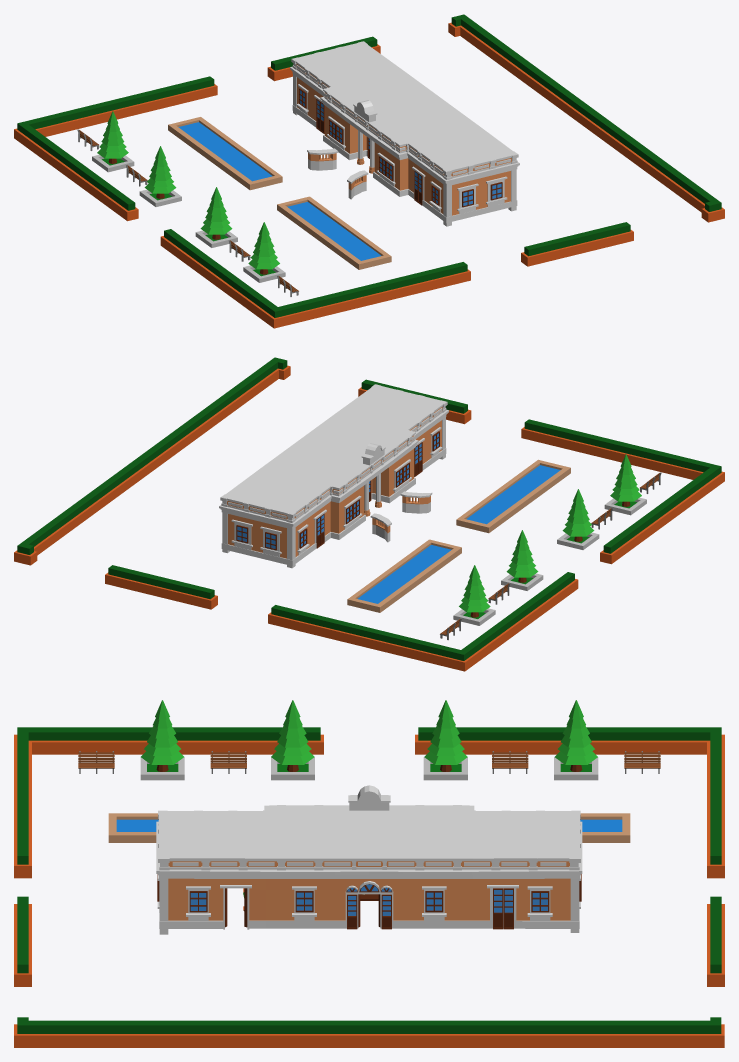
The model's file is Cajica-Station-Model.glb.
The picture shows the model from 3 angles, top to bottom: view 1: azimuth 30°, elevation 25°; view 2: azimuth 150°, elevation 25°; view 3: azimuth 270°, elevation 25°; orthographic projection. The views are drawn at different scales.
Visible parts, largest first — view 1: Cube.274, Cube.255, Cube.081, Cube.090, Cube.272, Plane.002, Cube.072; view 2: Cube.274, Cube.255, Cube.081, Cube.090, Cube.272, Plane.002, Cube.072; view 3: Cube.274, Cube.081, Cube.255, Cube.272, Cube.090, Plane.002, Cube.078, Cube.069, Cube.045, Cube.047, Cube.054, Cylinder.020 (+10 smaller).
Boxes of the visible parts, left/top/right/bottom form: Cube.274: left=290, top=41, right=519, bottom=222; Cube.255: left=14, top=76, right=470, bottom=328; Cube.081: left=448, top=14, right=724, bottom=222; Cube.090: left=168, top=117, right=391, bottom=269; Cube.272: left=267, top=36, right=633, bottom=266; Plane.002: left=178, top=122, right=381, bottom=260; Cube.072: left=307, top=148, right=368, bottom=199; Cube.274: left=219, top=384, right=448, bottom=565; Cube.255: left=268, top=419, right=724, bottom=671; Cube.081: left=14, top=357, right=290, bottom=565; Cube.090: left=347, top=459, right=570, bottom=612; Cube.272: left=105, top=379, right=471, bottom=609; Plane.002: left=357, top=465, right=560, bottom=603; Cube.072: left=370, top=491, right=432, bottom=542; Cube.274: left=156, top=805, right=582, bottom=928; Cube.081: left=14, top=1017, right=724, bottom=1047; Cube.255: left=14, top=727, right=724, bottom=878; Cube.272: left=14, top=896, right=724, bottom=986; Cube.090: left=108, top=813, right=630, bottom=842; Plane.002: left=116, top=819, right=622, bottom=831; Cube.078: left=159, top=878, right=579, bottom=934; Cube.069: left=348, top=785, right=390, bottom=810; Cube.045: left=189, top=891, right=549, bottom=912; Cube.047: left=295, top=891, right=443, bottom=912; Cube.054: left=347, top=894, right=391, bottom=929; Cylinder.020: left=271, top=751, right=467, bottom=764.
Bounding box in the file's own units: 32.27 × 5.31 × 32.22.
